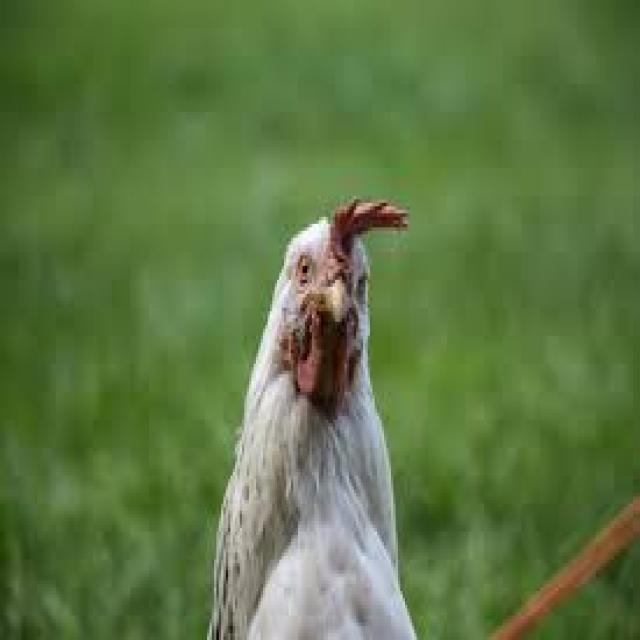Chicken: (204, 197, 430, 640)
